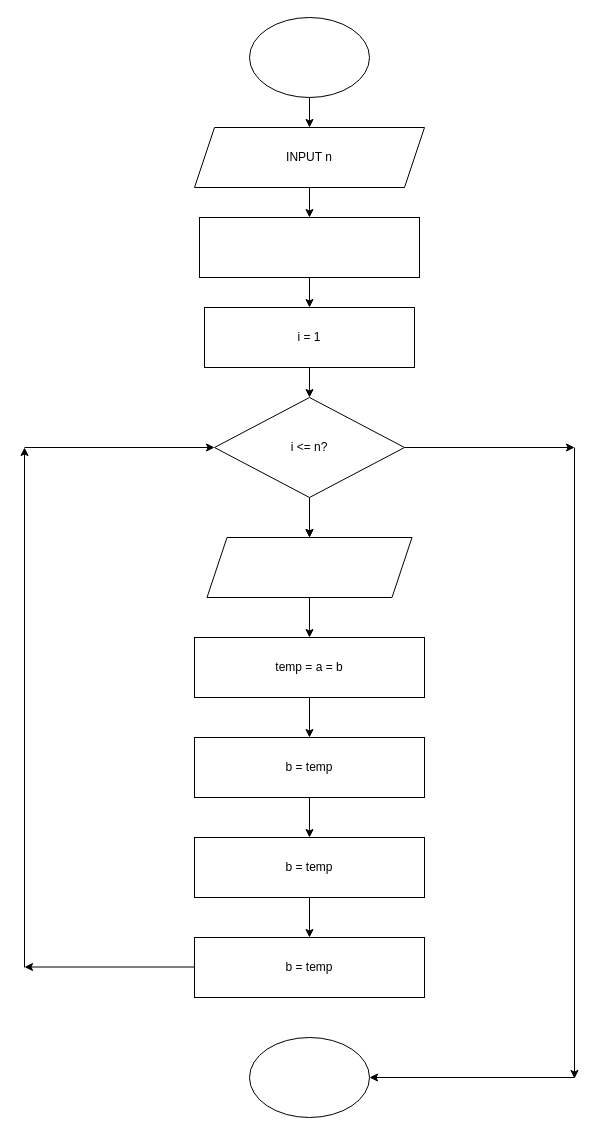
The diagram is 600 pixels wide and 1135 high, and some of its shapes have lost their labels. Each missing label, with the box of its shape:
a = 0, b = 1: (198, 216, 420, 278)
PRINT a: (206, 536, 412, 598)
START: (248, 16, 370, 98)
STOP: (248, 1036, 370, 1118)
